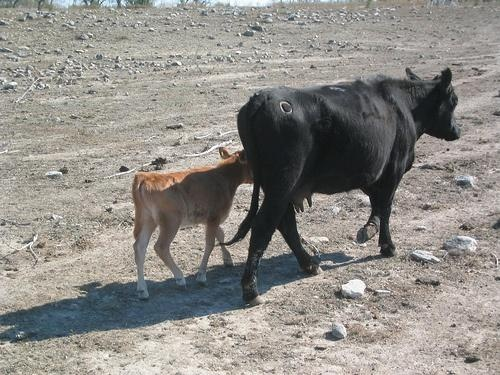cow: (236, 68, 467, 317), (125, 146, 267, 294)
